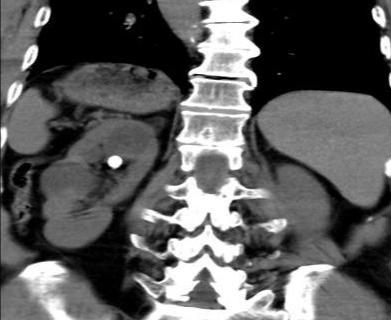Tas_Var: (105, 152, 123, 172)
